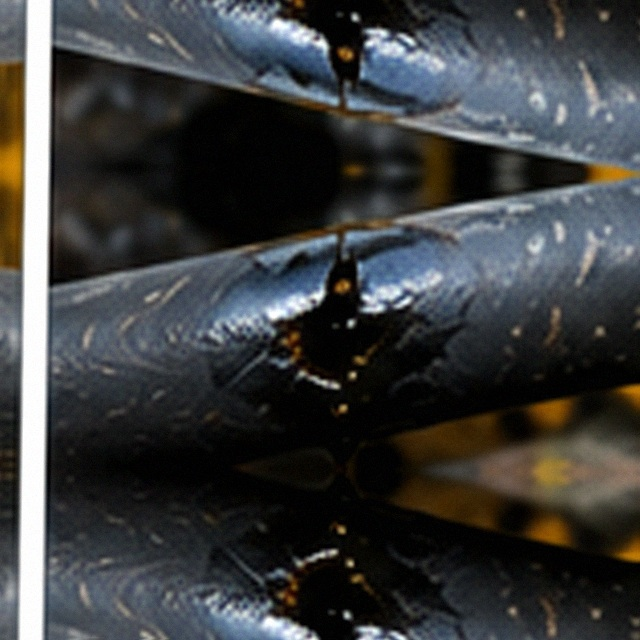hydraulic_oil_leak: (227, 202, 441, 430)
